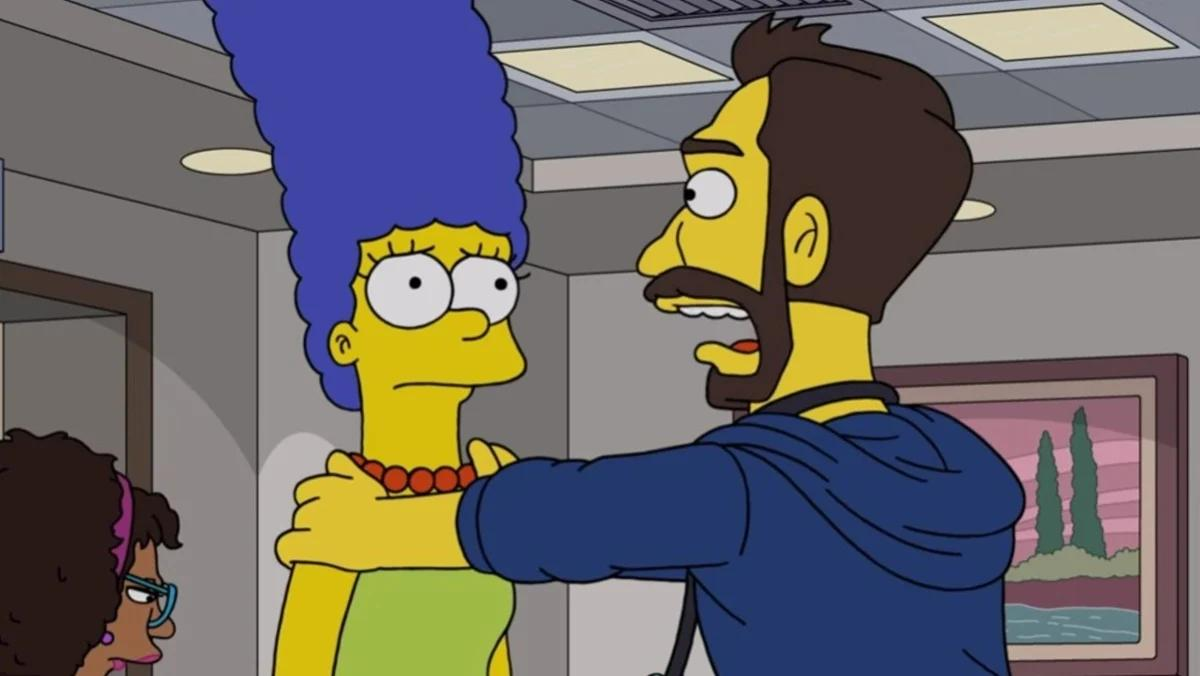Marge: (177, 0, 576, 676)
